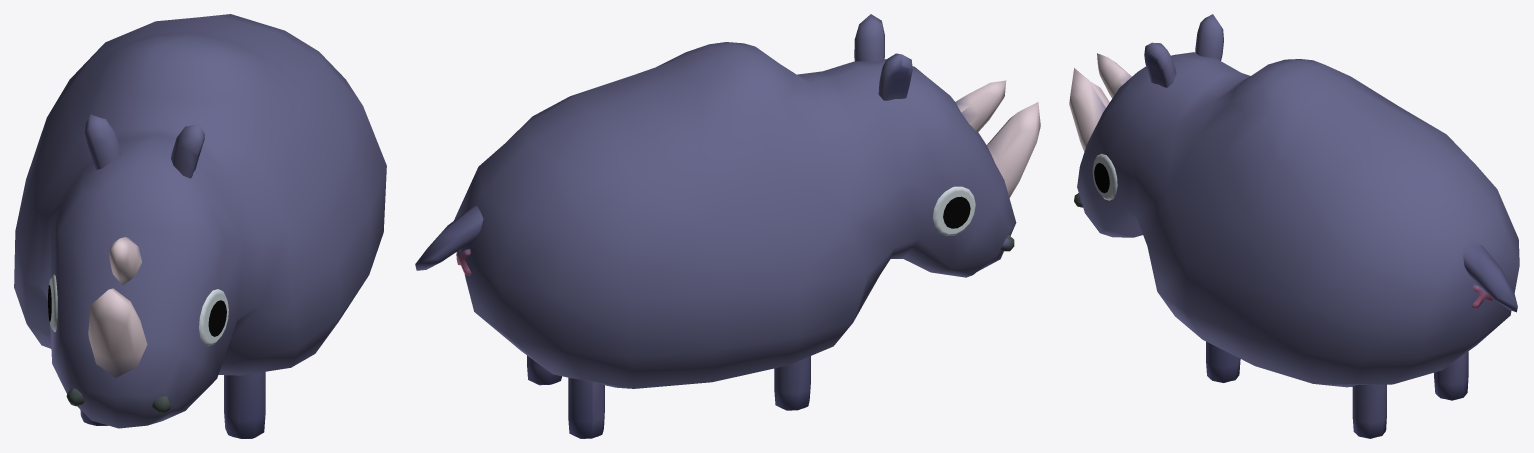
Rendered from Rhino.glb.
The picture shows the model from 3 angles, left to right: view 1: azimuth 30°, elevation 25°; view 2: azimuth 150°, elevation 25°; view 3: azimuth 270°, elevation 25°; orthographic projection. The views are drawn at different scales.
Parts seen in each view (by area): view 1: 140; view 2: 140; view 3: 140.
Part boxes in pixels (x1,y1,x2,y2): 140: (14,14,386,438); 140: (415,14,1040,438); 140: (1069,14,1519,438).
Bounding box in the file's own units: 1.13 × 0.8953 × 1.21.
